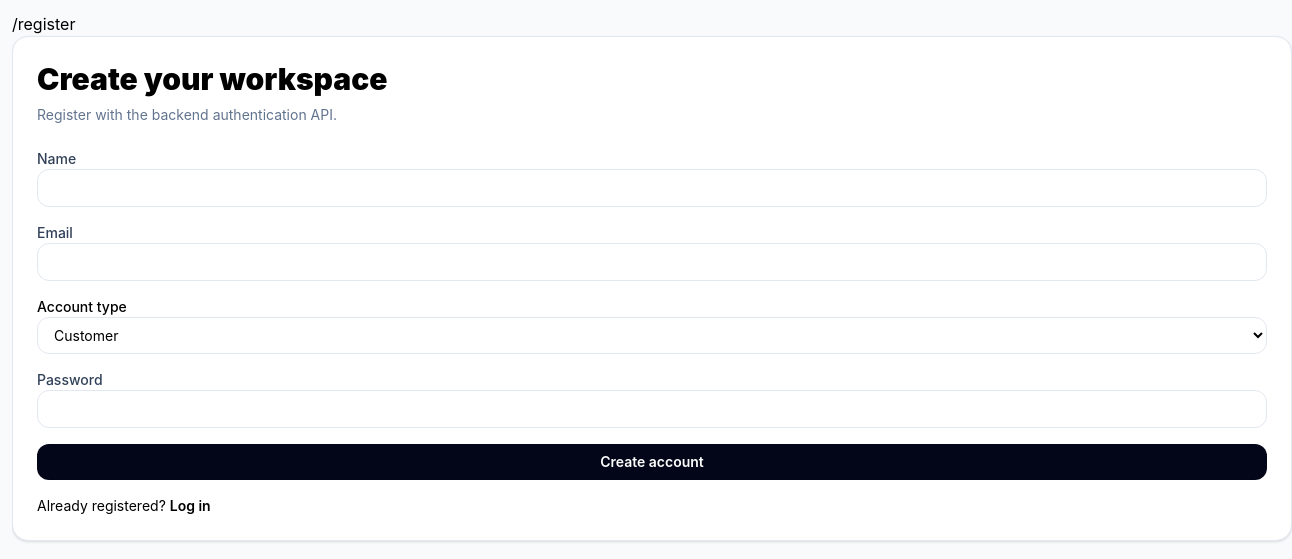
Test: authentication forms › register submits valid account details and returns to login
In the field labelled "Name": (652, 188) [37,169,1267,207], type "New User"
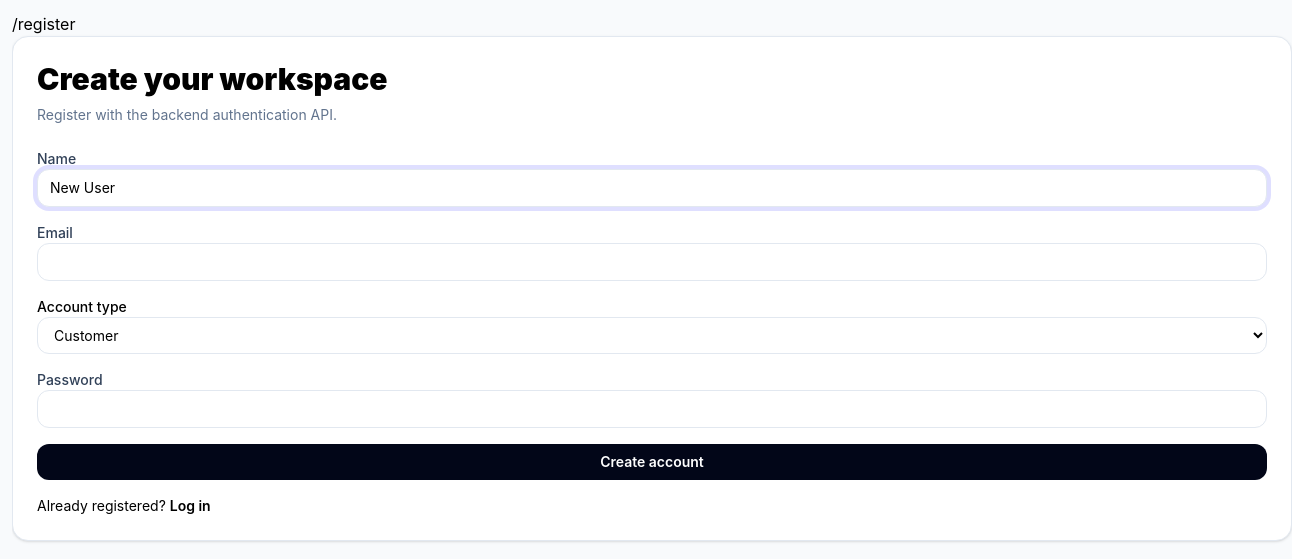
In the field labelled "Email": (652, 262) [37,243,1267,281], type "new@example.com"
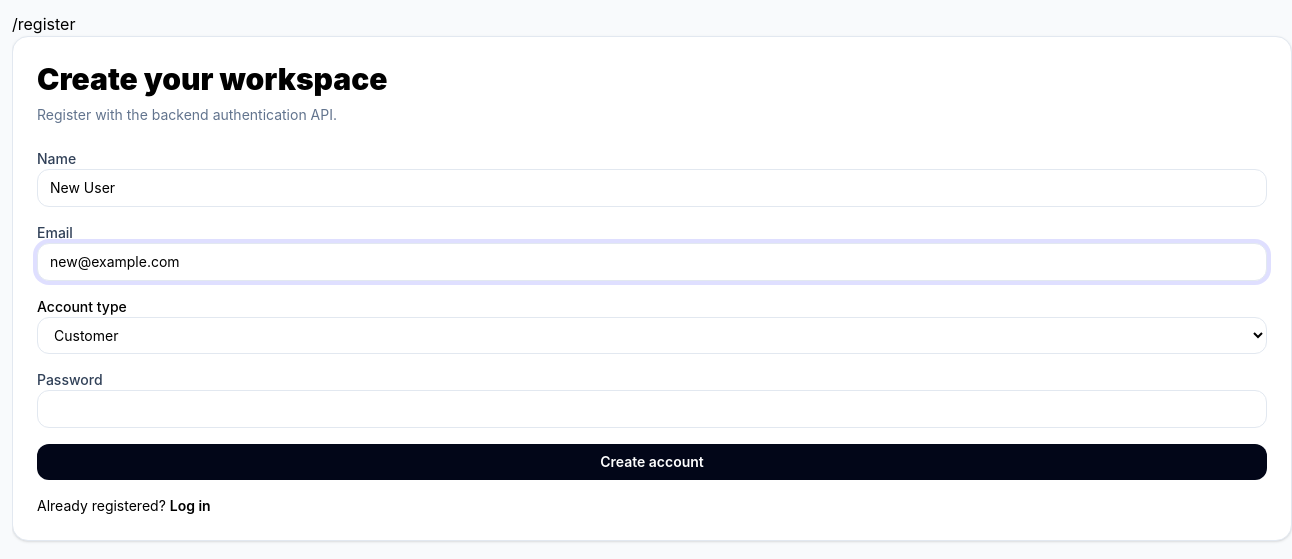
In the password field labelled "Password": (652, 409) [37,390,1267,428], type "StrongerPass1!"
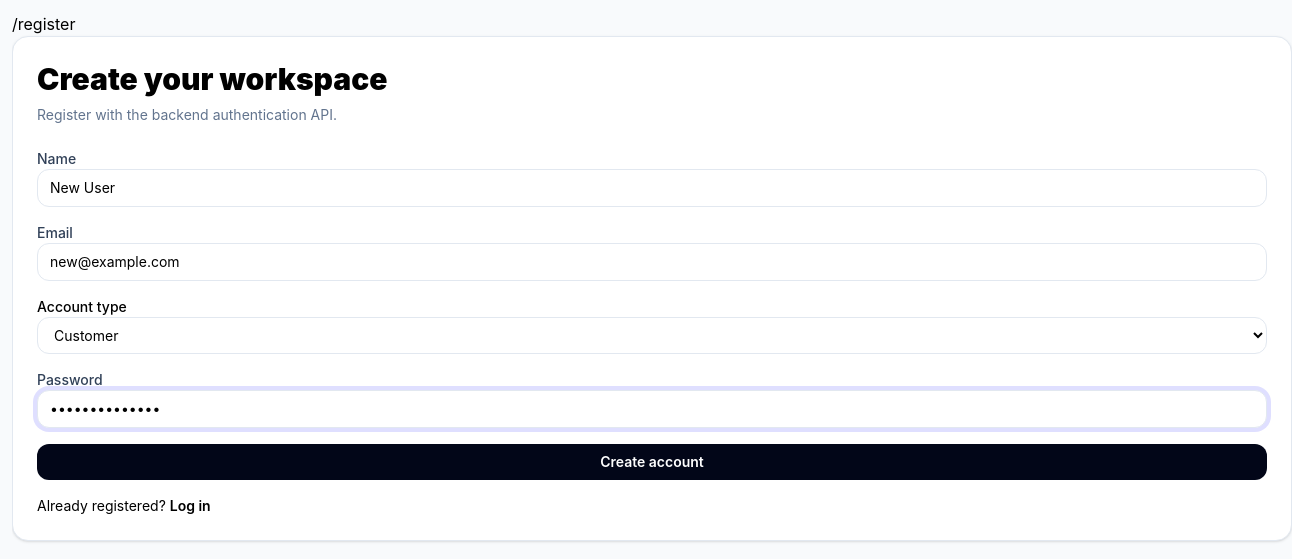
Click the button "Create account": (652, 462) [37,444,1267,480]
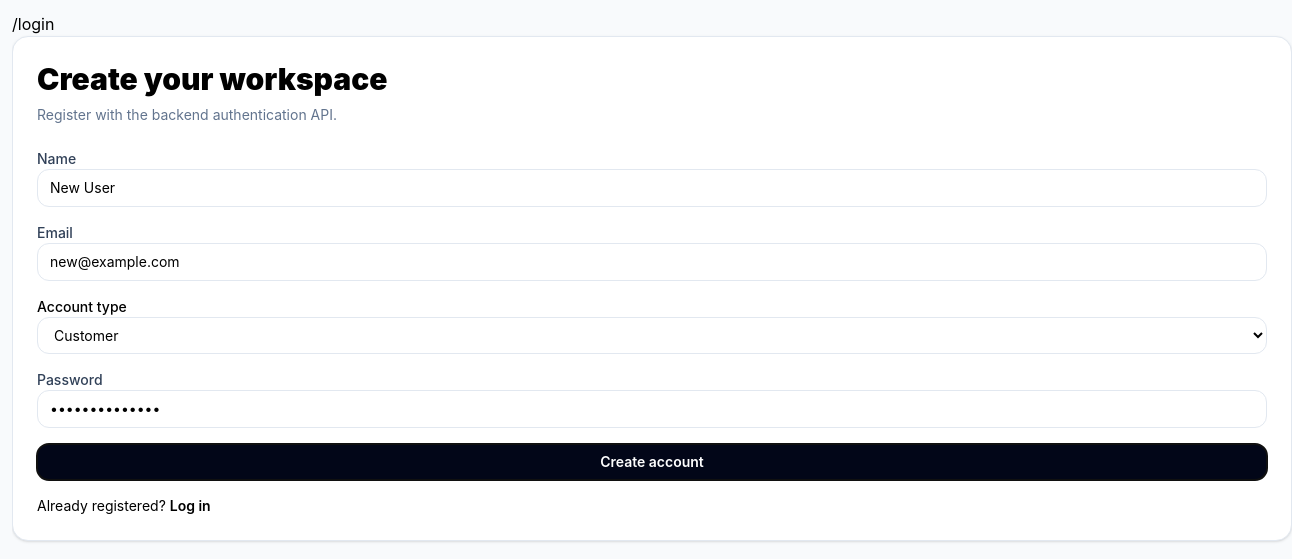
Now the text with test id "location" reads "/login", box [12,14,54,34]
